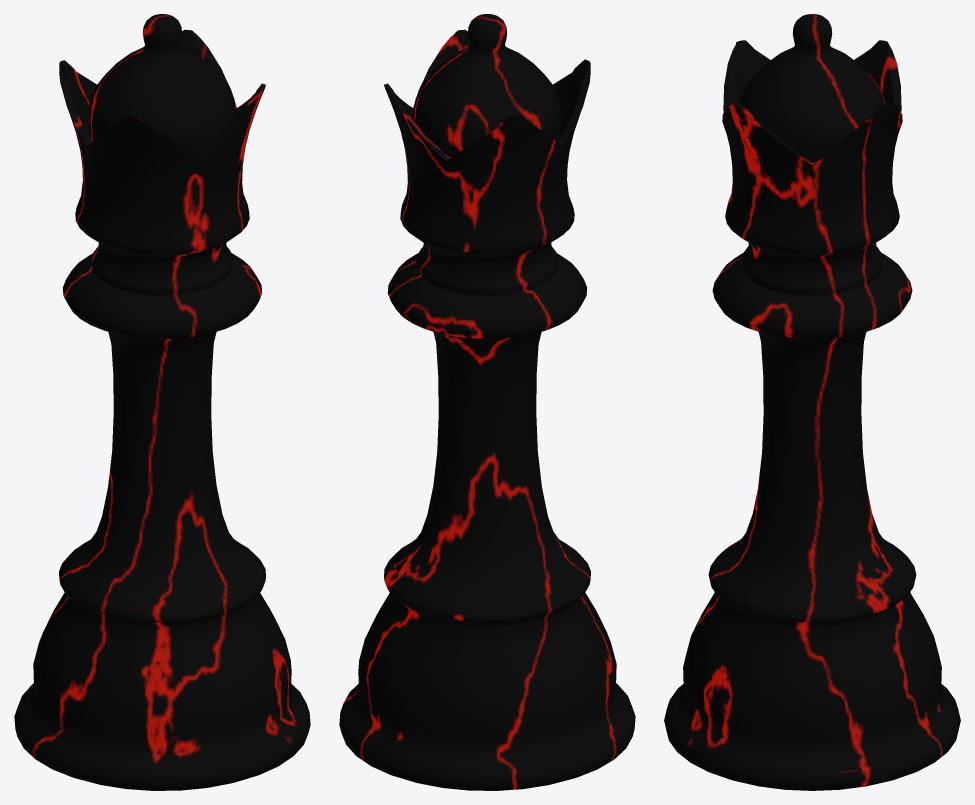
File: BlackQueen.glb
3 views of the same model, side by side, from view 1: azimuth 30°, elevation 25°; view 2: azimuth 150°, elevation 25°; view 3: azimuth 270°, elevation 25° (orthographic).
Parts seen in each view (by area): view 1: Queen; view 2: Queen; view 3: Queen.
Boxes of the visible parts, box(x1,y1,x2,y2) form: Queen: box(14, 14, 310, 790); Queen: box(339, 14, 635, 790); Queen: box(664, 14, 960, 790).
Size of the model in its own units: 0.2046 by 0.5443 by 0.2046.
1 material, 1 textured.
